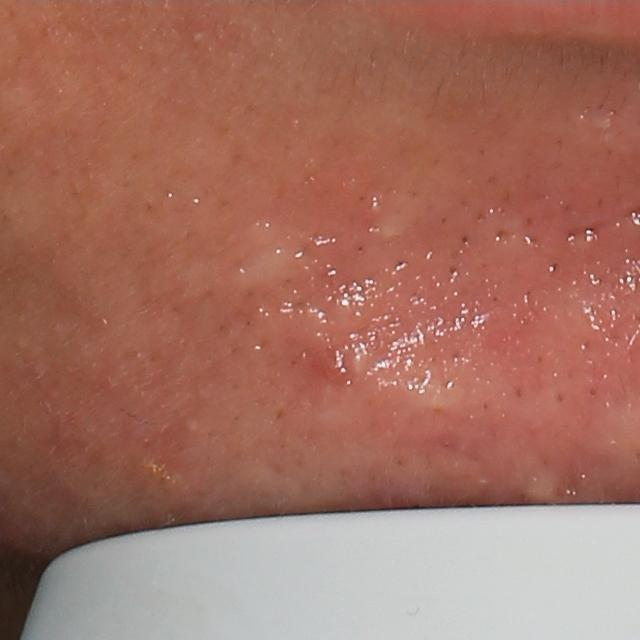hypertrophic_scar: (513, 275, 627, 358), (354, 361, 498, 423), (222, 216, 312, 294), (286, 287, 377, 352), (495, 446, 572, 502), (374, 201, 415, 243)
